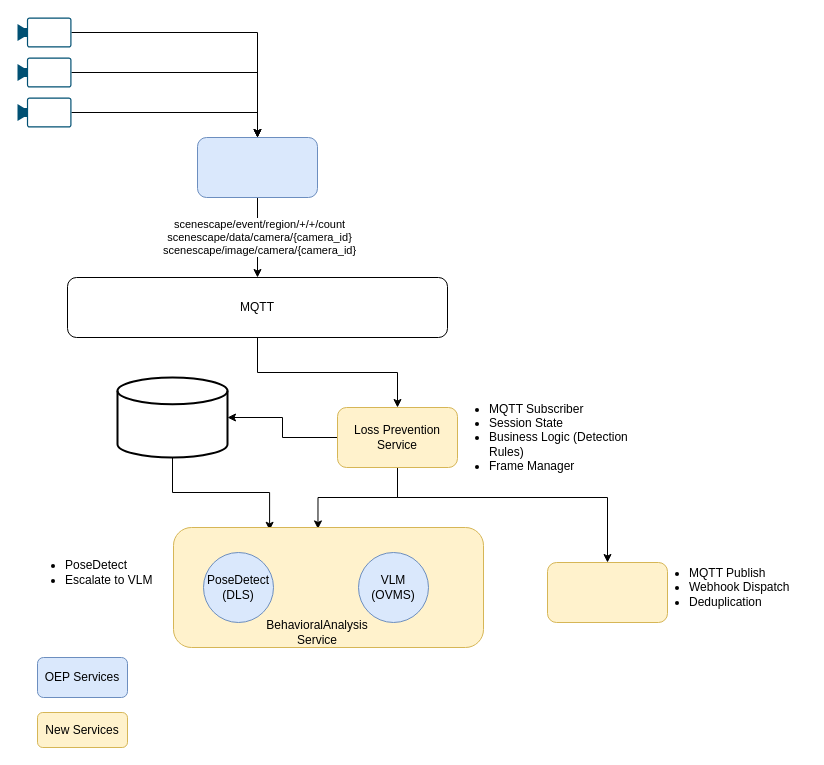
The diagram is 824 pixels wide and 765 high, and some of its shapes have lost their labels. The shapes that lost their labels are listed below. From the top down, each one's centre as x and y in pixels, then its label:
At point (257, 167): "Scenescape".
At point (172, 417): "Object Store (SeaweedFS)".
At point (607, 592): "Alert Service".
